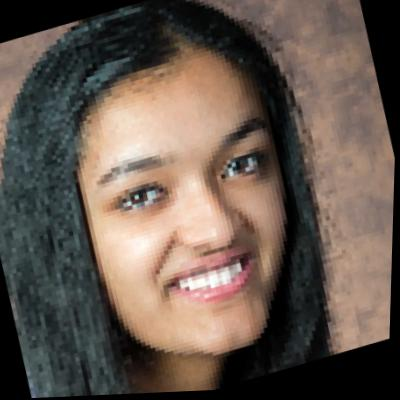happy: (1, 6, 338, 400)
